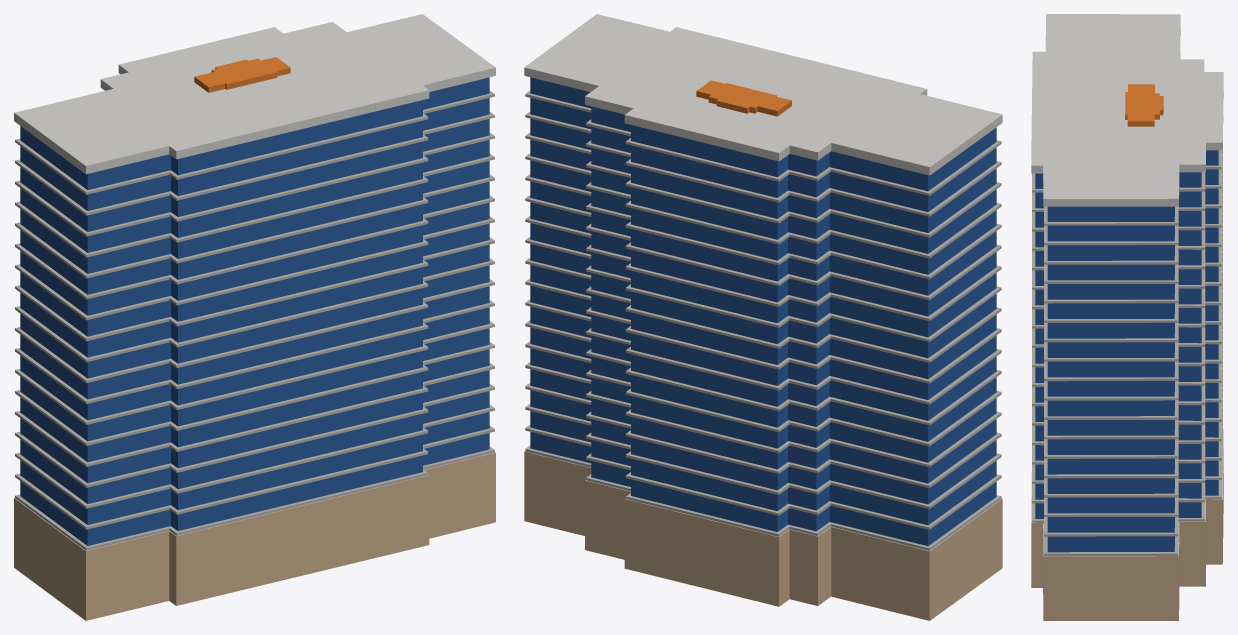
The model's file is liberty_sky.glb.
3 views of the same model, side by side, from view 1: azimuth 30°, elevation 25°; view 2: azimuth 150°, elevation 25°; view 3: azimuth 270°, elevation 25° (orthographic). The views are drawn at different scales.
Visible parts, largest first — view 1: Liberty_Sky; view 2: Liberty_Sky; view 3: Liberty_Sky.
Part boxes in pixels (box(x1,y1,x2,y2)): Liberty_Sky: box(14, 14, 495, 620); Liberty_Sky: box(524, 14, 1002, 620); Liberty_Sky: box(1031, 14, 1223, 620).
Size of the model in its own units: 61.27 by 66 by 26.97.
